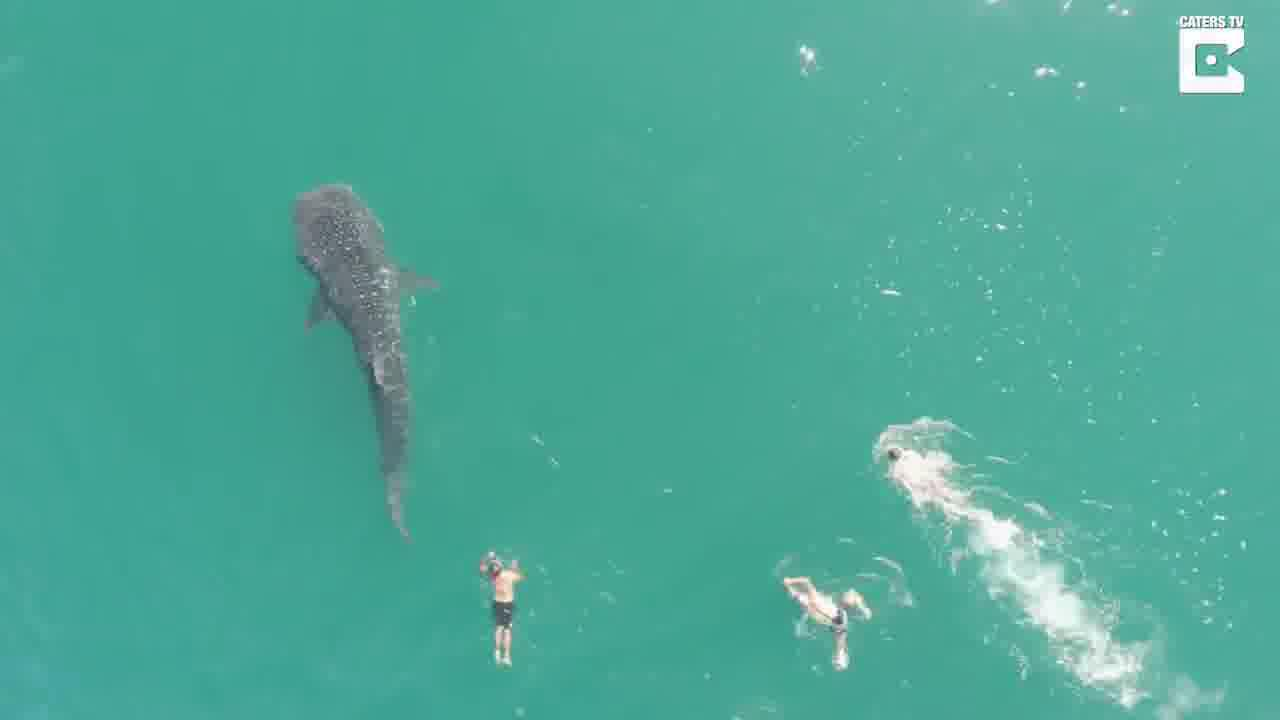swimmer: (784, 575, 865, 672), (475, 544, 525, 670)
